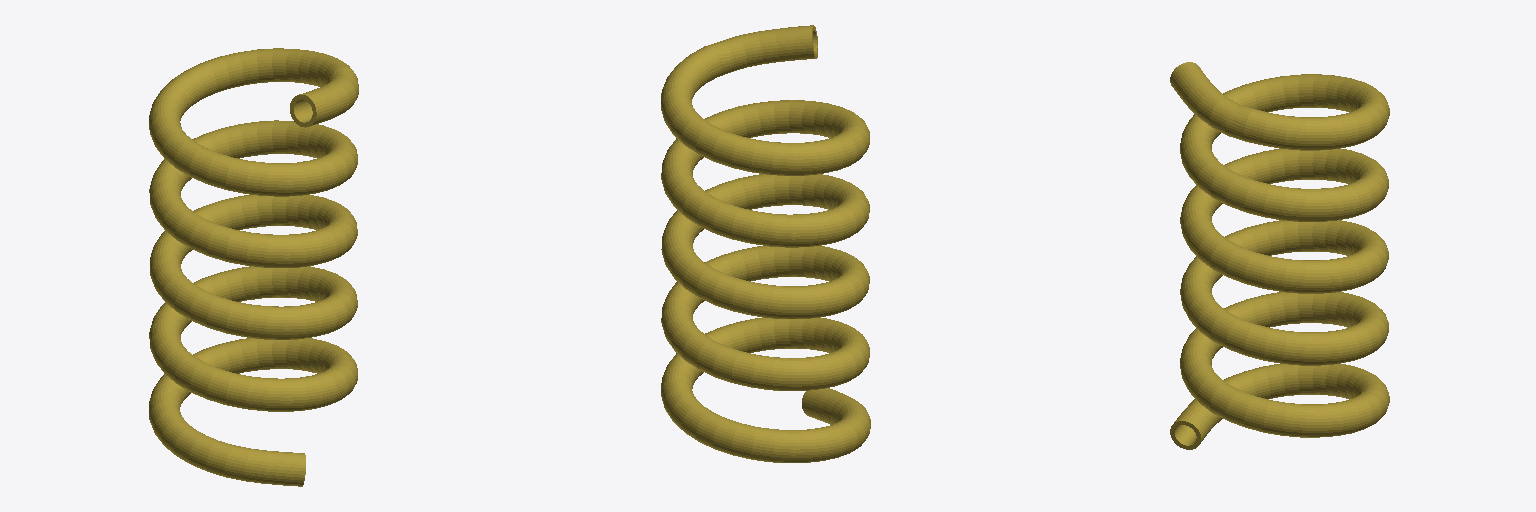
Rendered from Spring-rigged.obj.
3 renders of one model, left to right at view 1: azimuth 30°, elevation 25°; view 2: azimuth 150°, elevation 25°; view 3: azimuth 270°, elevation 25°, orthographic.
Parts seen in each view (by area): view 1: Spring-mesh_Mesh; view 2: Spring-mesh_Mesh; view 3: Spring-mesh_Mesh.
Boxes of the visible parts, <box> form: Spring-mesh_Mesh: <box>149,48,358,486</box>; Spring-mesh_Mesh: <box>661,25,870,462</box>; Spring-mesh_Mesh: <box>1170,62,1389,449</box>.
Size of the model in its own units: 2.13 by 4.34 by 2.22.